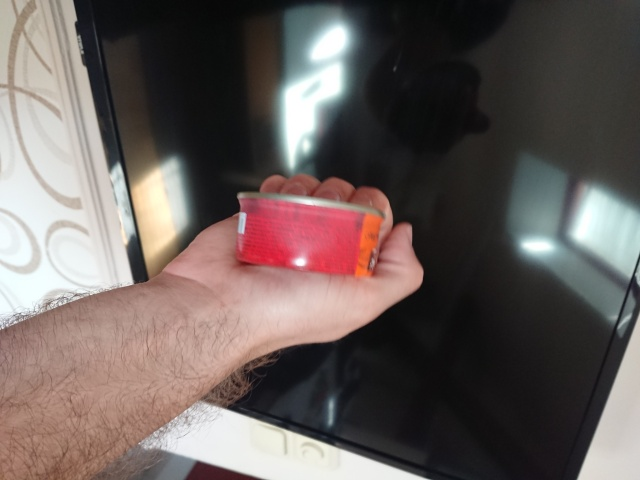Gavrilovic Pork Liver Pate 100g: (233, 188, 387, 280)
